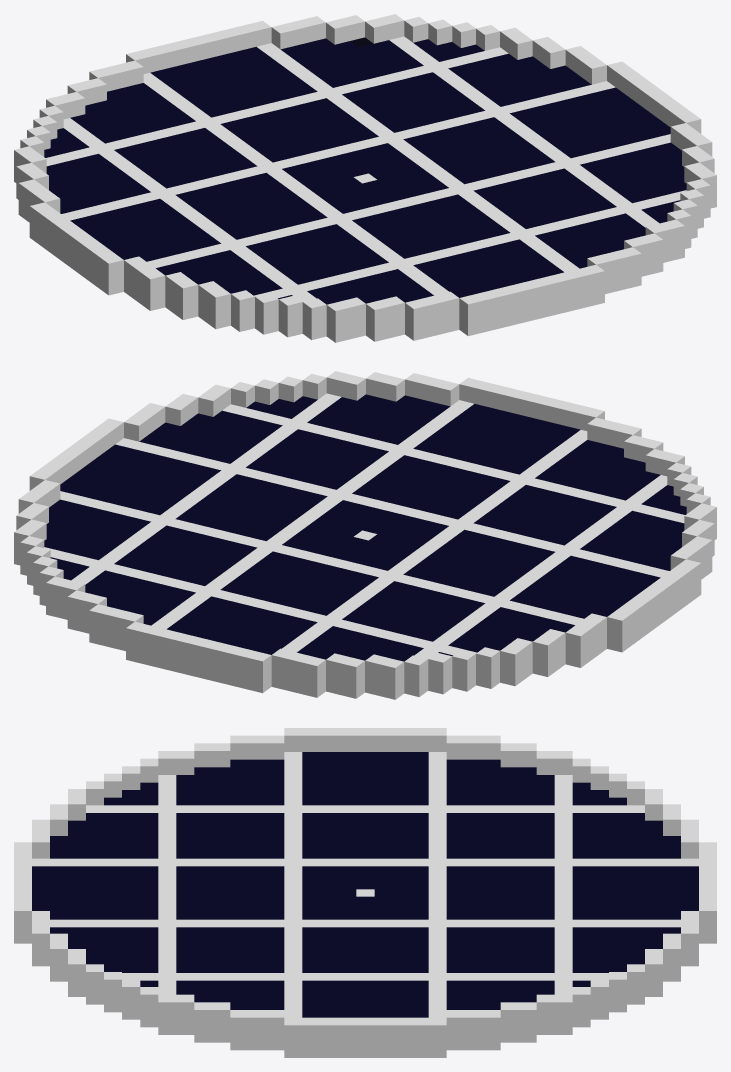
File: Stage.FBX
The picture shows the model from 3 angles, top to bottom: view 1: azimuth 30°, elevation 25°; view 2: azimuth 150°, elevation 25°; view 3: azimuth 270°, elevation 25°; orthographic projection. The views are drawn at different scales.
Visible parts, largest first — view 1: stage; view 2: stage; view 3: stage.
Part boxes in pixels (box(x1,y1,x2,y2)): stage: box(14, 14, 716, 342); stage: box(14, 371, 716, 699); stage: box(14, 728, 716, 1057).
Bounding box in the file's own units: 39 × 2 × 39.
Materials: 1 (1 with a texture image).
